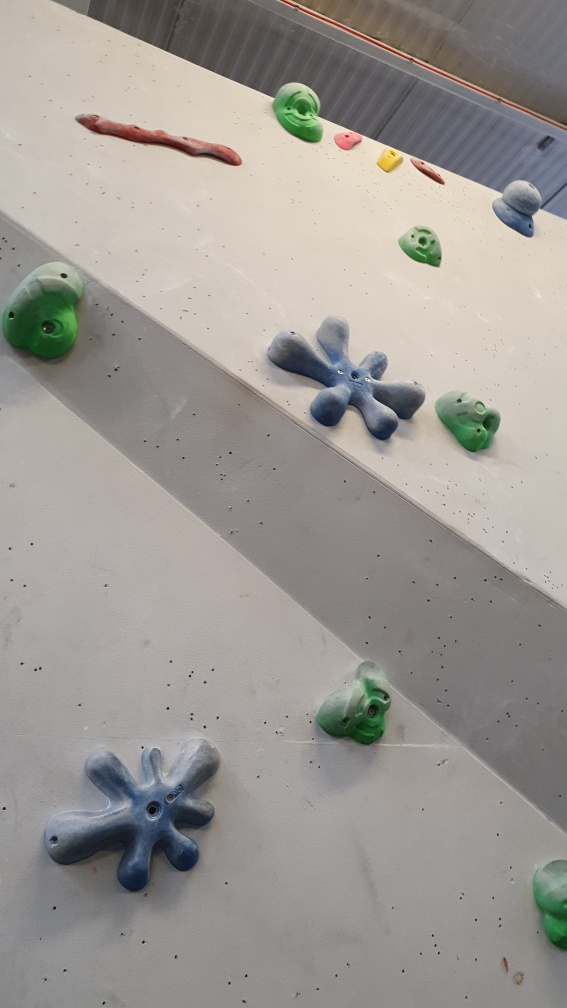Crimp: (410, 159, 447, 185)
Jug: (3, 256, 88, 362), (313, 653, 396, 749), (436, 384, 502, 458), (271, 80, 321, 147), (400, 220, 446, 273)
Octopus Pinch: (43, 734, 223, 896), (261, 311, 424, 441)
Sloper: (492, 175, 543, 241)
